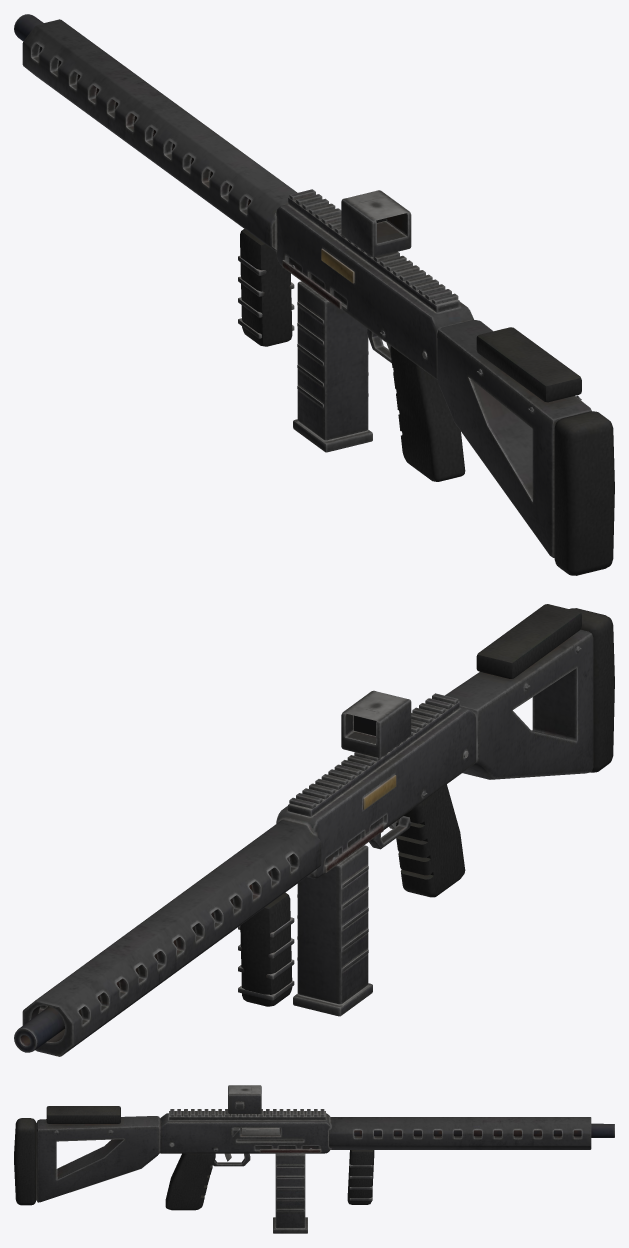
The model's file is candidate_shotgun.glb.
The picture shows the model from 3 angles, top to bottom: view 1: azimuth 30°, elevation 25°; view 2: azimuth 150°, elevation 25°; view 3: azimuth 270°, elevation 25°; orthographic projection. The views are drawn at different scales.
Parts seen in each view (by area): view 1: candidate_shotgun; view 2: candidate_shotgun; view 3: candidate_shotgun.
Boxes of the visible parts, x1,y1,x2,y2 form: candidate_shotgun: [14, 14, 614, 575]; candidate_shotgun: [14, 604, 614, 1056]; candidate_shotgun: [14, 1085, 614, 1233].
Bounding box in the file's own units: 0.0611 × 0.2925 × 1.15.
1 material, 1 textured.
